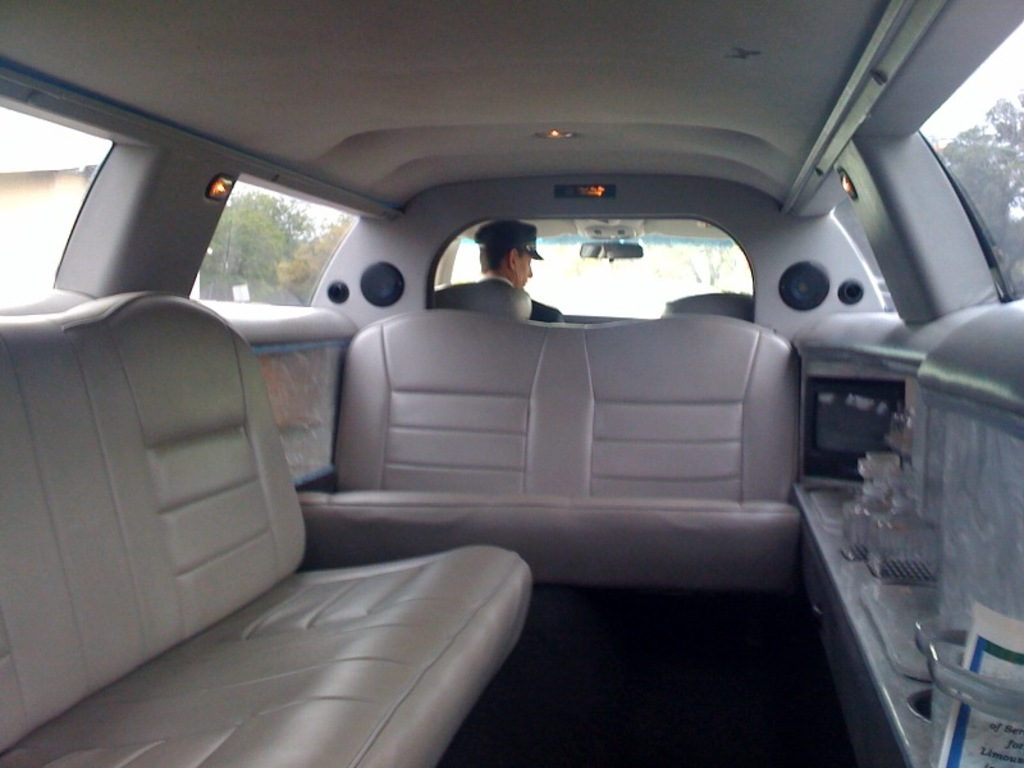person: (428, 217, 567, 325)
